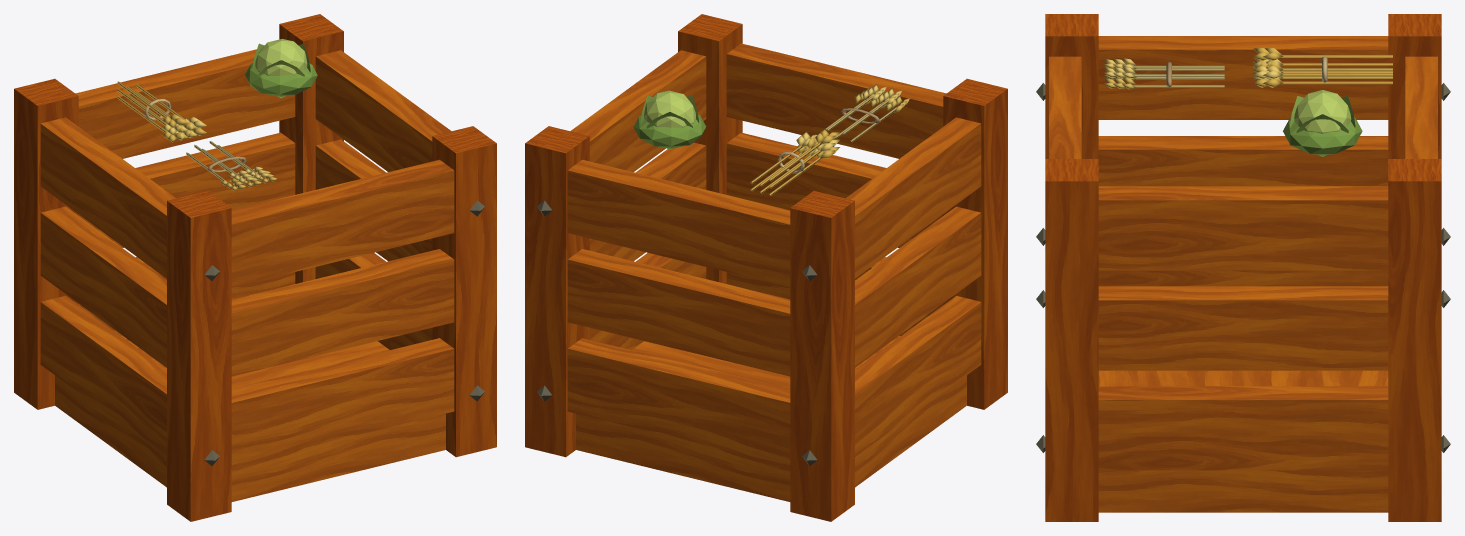
The model's file is farm-collection-box-14.gltf.
The picture shows the model from 3 angles, left to right: view 1: azimuth 30°, elevation 25°; view 2: azimuth 150°, elevation 25°; view 3: azimuth 270°, elevation 25°; orthographic projection. The views are drawn at different scales.
Visible parts, largest first — view 1: farm-collection-box-14; view 2: farm-collection-box-14; view 3: farm-collection-box-14.
Boxes of the visible parts, x1,y1,x2,y2 form: farm-collection-box-14: [14, 14, 496, 521]; farm-collection-box-14: [525, 14, 1007, 521]; farm-collection-box-14: [1036, 14, 1450, 521].
Size of the model in its own units: 0.8002 by 0.8448 by 0.8382.
Materials: 2 (1 with a texture image).
